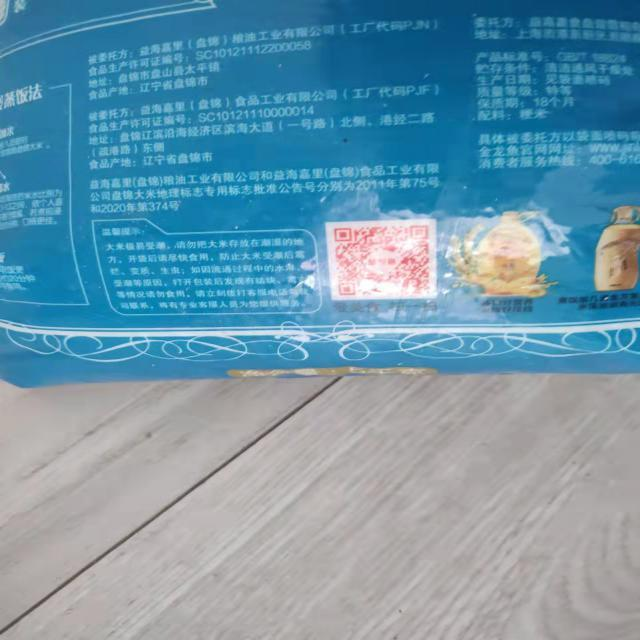qr_code: (334, 225, 431, 298)
